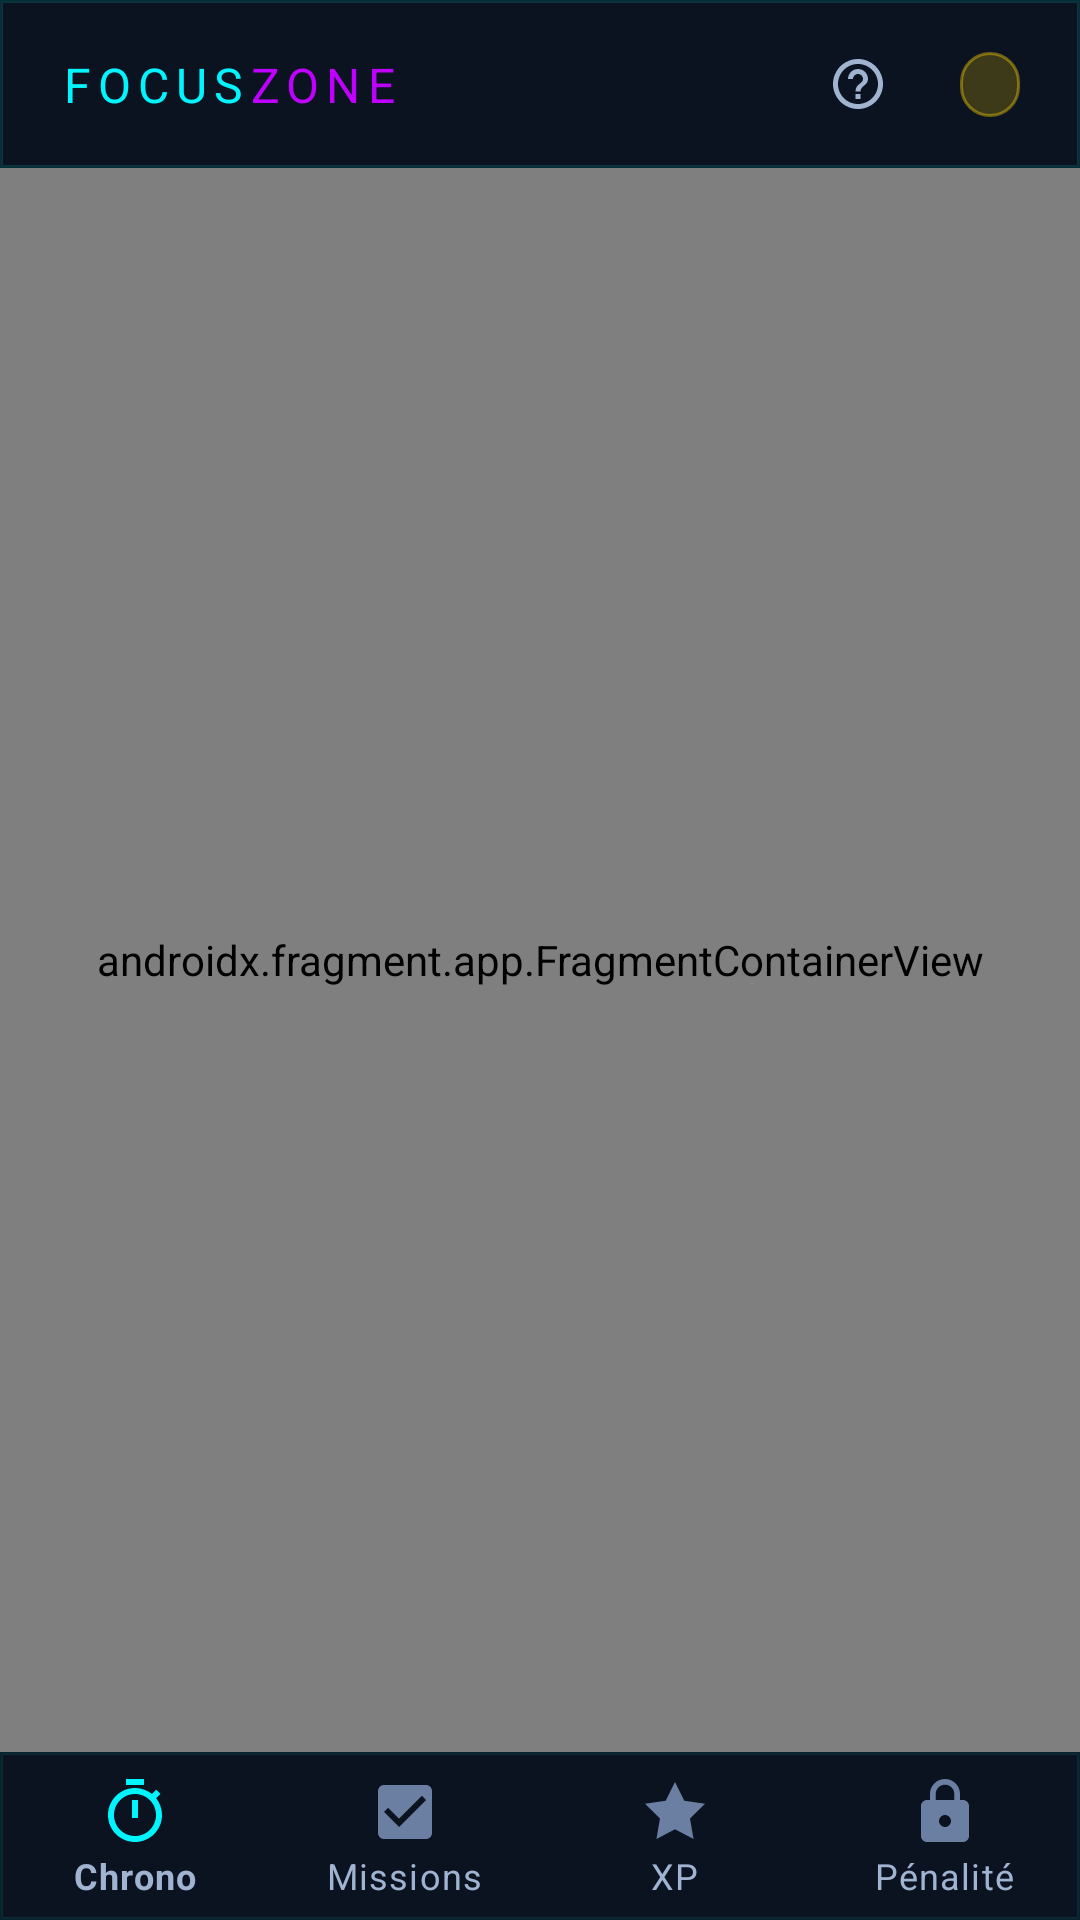

Icon bounding boxes for this 1080×1920 phone screenshot, format (x1, y1, x2, y2):
Aide: (833, 59, 883, 109)
